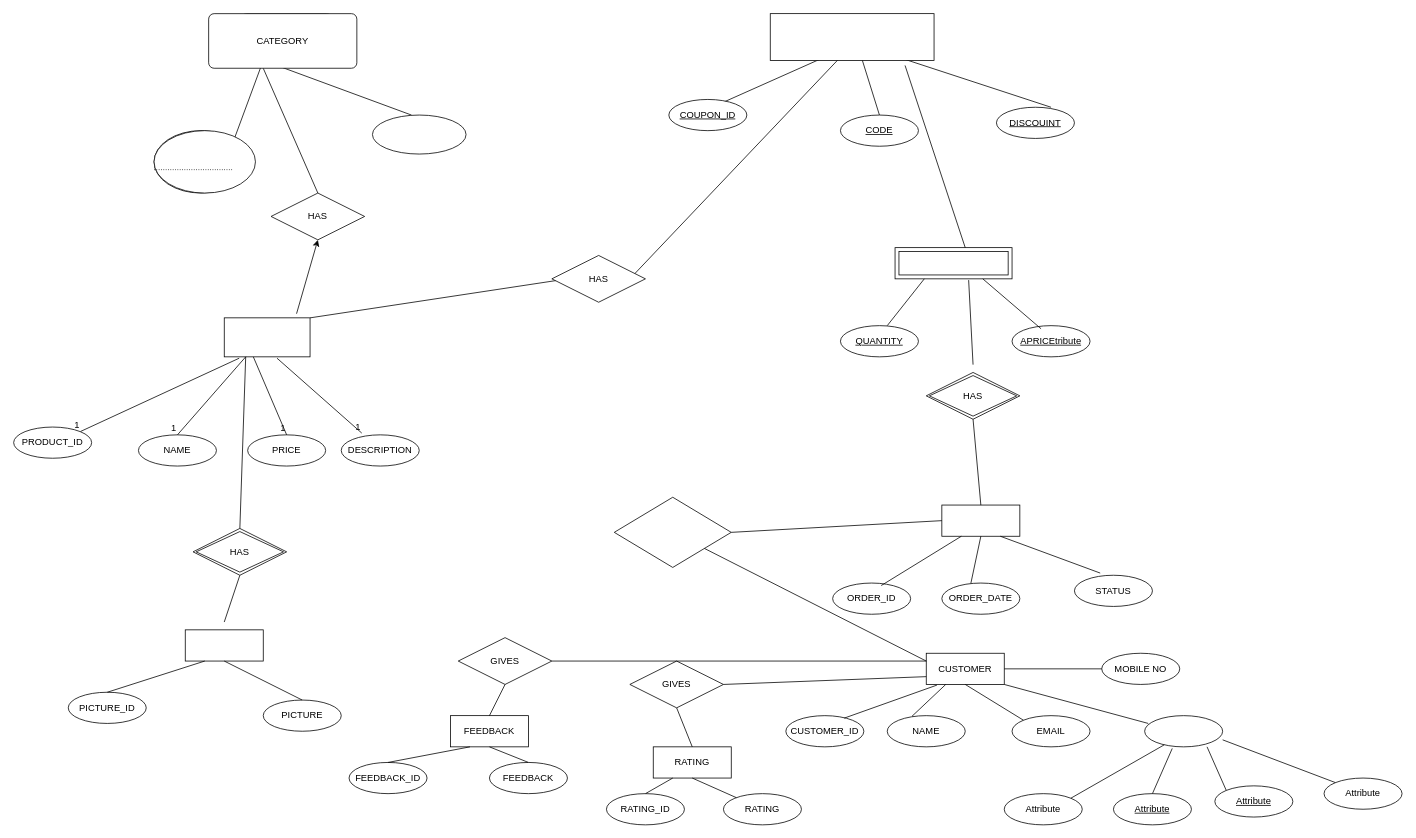
This 1416x838 diagram has some shape labels left out. Each missing label, with the centre of its shape:
"ADDRESS" belongs at point (1183, 731).
"CATEGORY_ID" belongs at point (204, 161).
"CATEGORY_NAME" belongs at point (419, 134).
"COUPON" belongs at point (851, 36).
"Entity" belongs at point (980, 520).
"ORDER_ITEM" belongs at point (953, 263).
"PICTURES" belongs at point (223, 645).
"PLACES" belongs at point (672, 531).
"PRODUCTS" belongs at point (266, 337).
